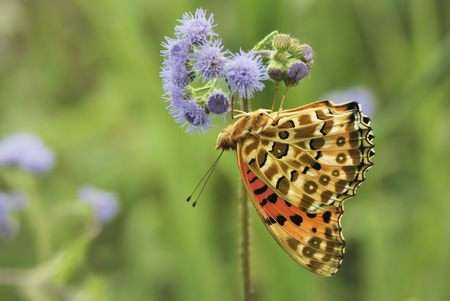Argyreus hyperbius: (183, 90, 375, 283)
butterfly: (185, 92, 377, 285)
